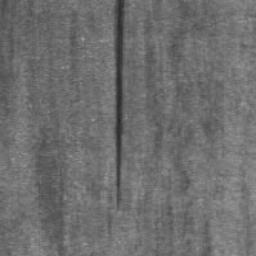Scratches: (115, 0, 125, 211)
